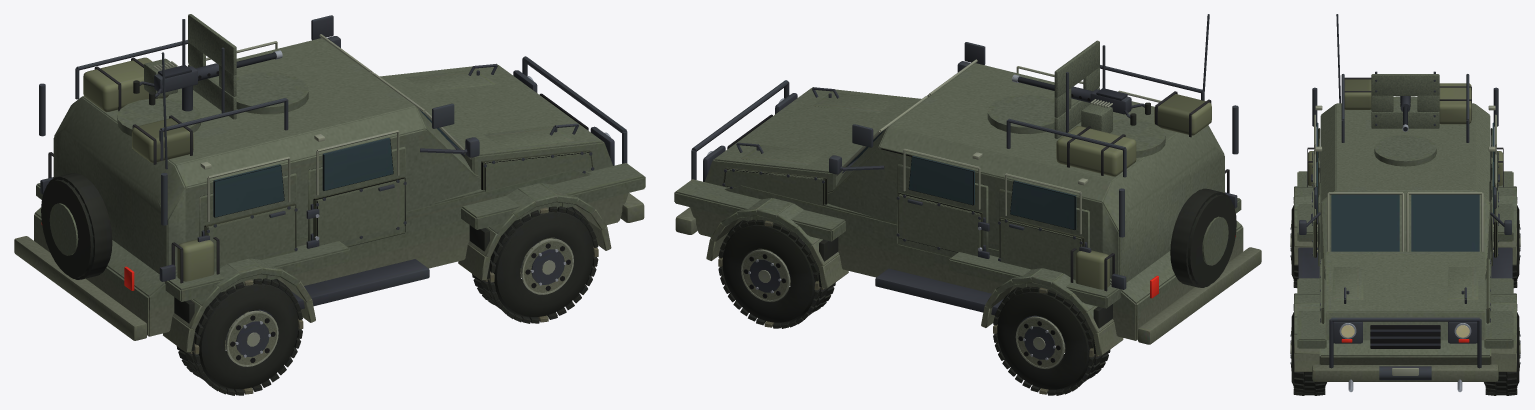
File: jeep.glb
3 views of the same model, side by side, from view 1: azimuth 30°, elevation 25°; view 2: azimuth 150°, elevation 25°; view 3: azimuth 270°, elevation 25° (orthographic). The views are drawn at different scales.
Visible parts, largest first — view 1: body, wheel_0, wheel_1, gun_shield, gun; view 2: body, wheel_2, wheel_3, gun_shield, gun; view 3: body, gun_shield, wheel_1, wheel_3, wheel_0, wheel_2, gun.
Part boxes in pixels (x1,y1,x2,y2): body: [14, 15, 645, 352]; wheel_0: [176, 278, 303, 395]; wheel_1: [472, 206, 598, 323]; gun_shield: [182, 14, 236, 119]; gun: [133, 50, 282, 111]; body: [674, 14, 1261, 355]; wheel_2: [993, 286, 1110, 395]; wheel_3: [718, 219, 835, 328]; gun_shield: [1054, 40, 1105, 138]; gun: [1012, 74, 1150, 133]; body: [1294, 14, 1516, 391]; gun_shield: [1371, 71, 1439, 128]; wheel_1: [1290, 304, 1326, 395]; wheel_3: [1484, 304, 1520, 395]; wheel_0: [1290, 197, 1298, 287]; wheel_2: [1512, 197, 1520, 287]; gun: [1400, 96, 1410, 131].
Bounding box in the file's own units: 4.64 × 2.81 × 2.36.
Materials: 4 (4 with a texture image).
